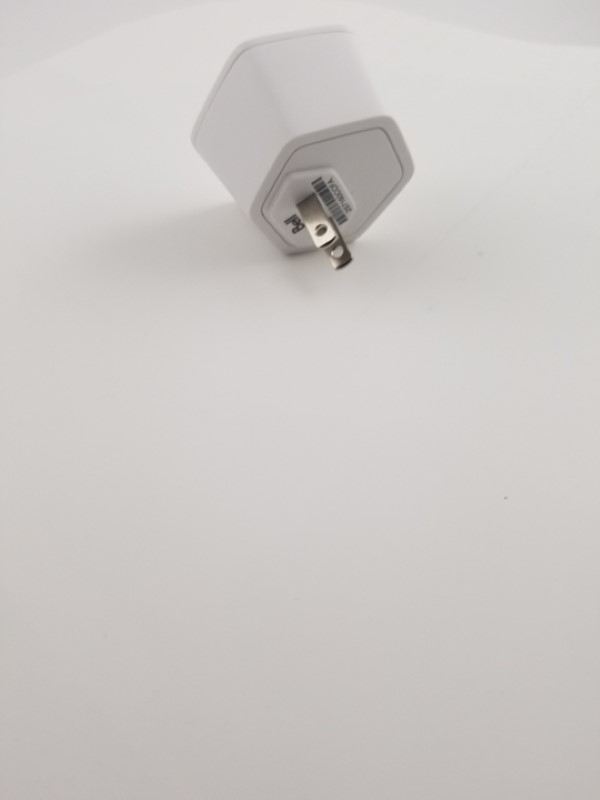pod: (186, 23, 426, 281)
